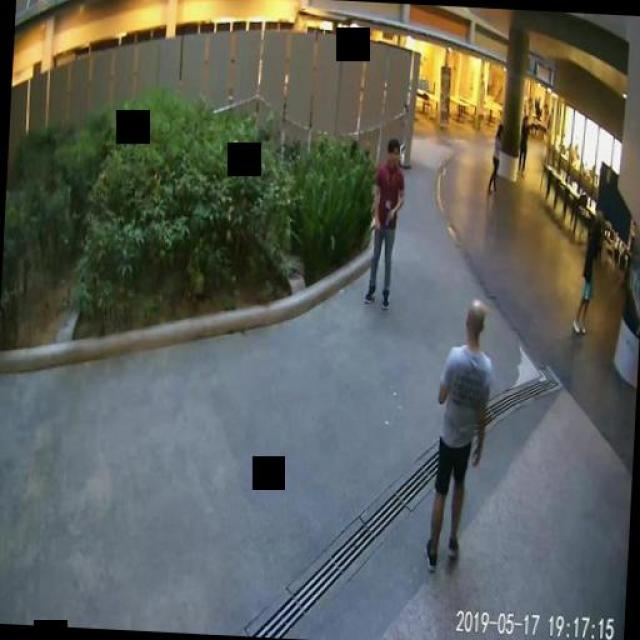gun: (384, 207, 395, 225)
